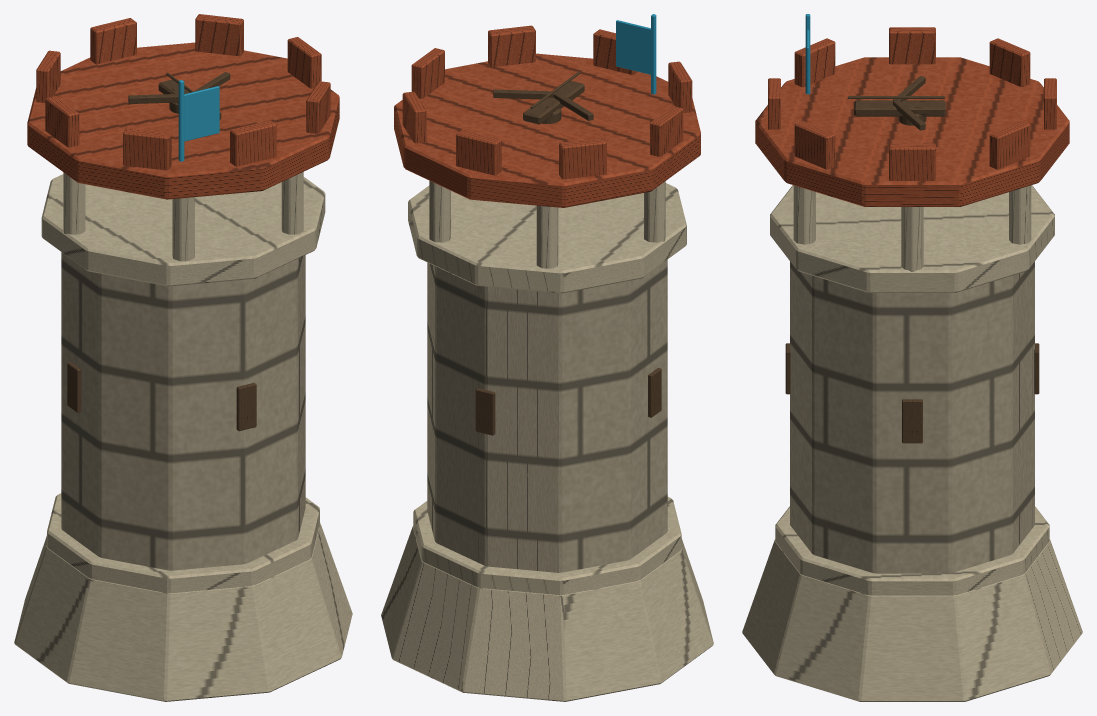
The model's file is edificio-tower-e1-0rlik1-9.glb.
The picture shows the model from 3 angles, left to right: view 1: azimuth 30°, elevation 25°; view 2: azimuth 150°, elevation 25°; view 3: azimuth 270°, elevation 25°; orthographic projection.
Parts seen in each view (by area): view 1: envolvente_torre, team_color, mecanismo_ataque_torre_e1; view 2: envolvente_torre, mecanismo_ataque_torre_e1, team_color; view 3: envolvente_torre, mecanismo_ataque_torre_e1.
Boxes of the visible parts, x1=… form: envolvente_torre: x1=14, y1=14, x2=352, y2=701; team_color: x1=178, y1=80, x2=219, y2=161; mecanismo_ataque_torre_e1: x1=128, y1=72, x2=230, y2=119; envolvente_torre: x1=381, y1=25, x2=713, y2=701; mecanismo_ataque_torre_e1: x1=493, y1=71, x2=593, y2=124; team_color: x1=616, y1=14, x2=656, y2=94; envolvente_torre: x1=742, y1=27, x2=1082, y2=701; mecanismo_ataque_torre_e1: x1=847, y1=76, x2=945, y2=130.
Size of the model in its own units: 31.1 by 62.62 by 32.6.
Materials: 2 (1 with a texture image).
